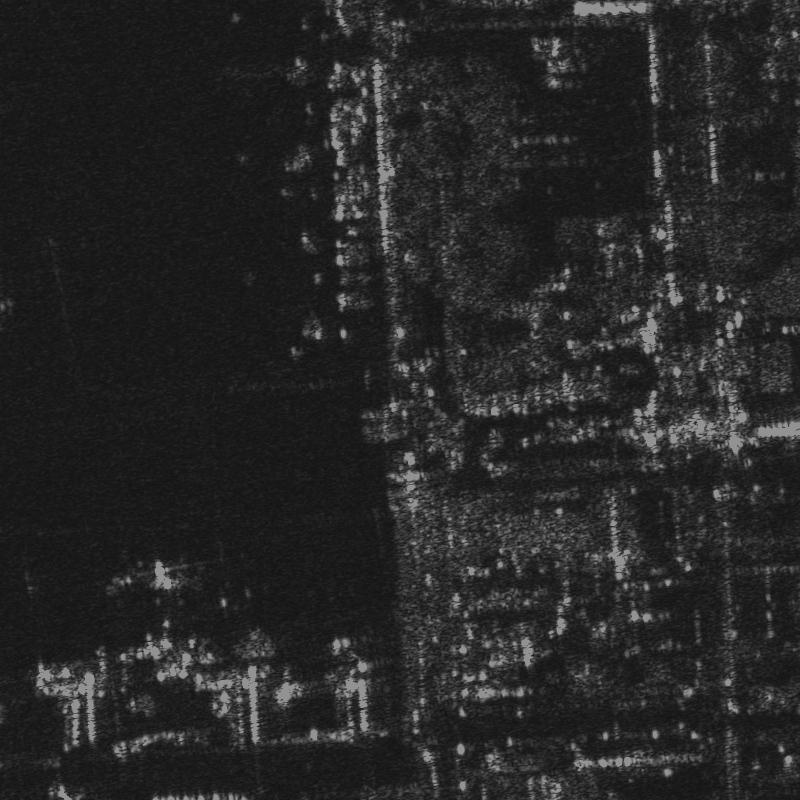Boeing787: (113, 545, 196, 610)
